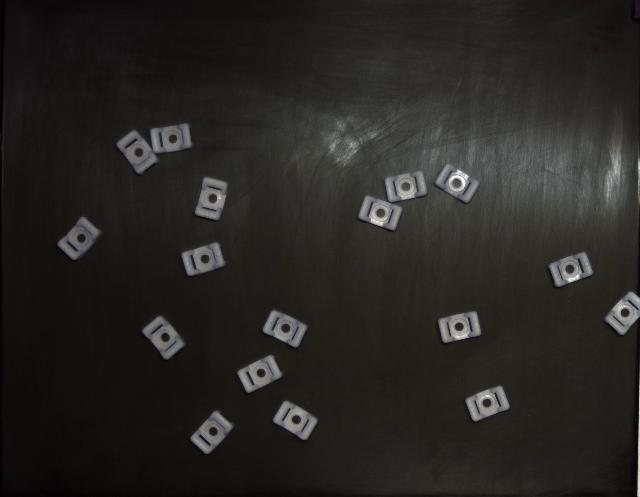first_side: (142, 316, 186, 360), (190, 411, 234, 455), (116, 130, 159, 175), (58, 218, 102, 260), (272, 401, 318, 441), (435, 164, 480, 204), (262, 310, 308, 348), (238, 355, 282, 394), (465, 386, 510, 422), (181, 242, 226, 276), (359, 196, 402, 231), (549, 253, 592, 288), (195, 178, 228, 221), (438, 311, 481, 344), (385, 171, 428, 202), (150, 124, 192, 154)
